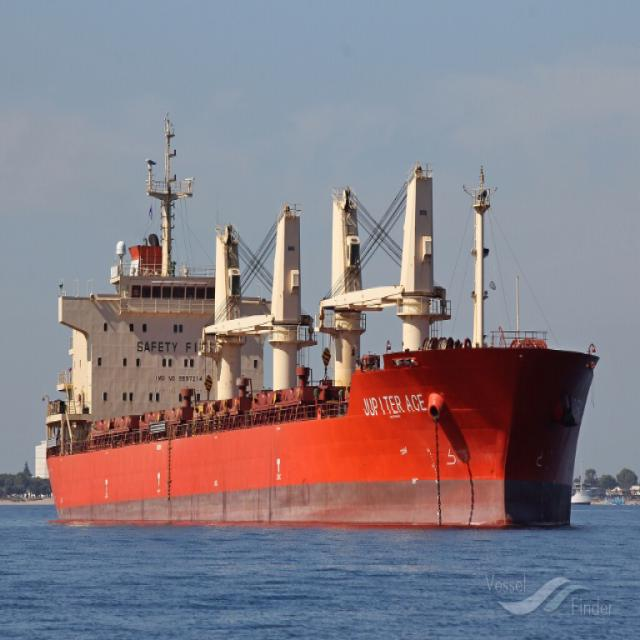OCR: (360, 387, 428, 421)
